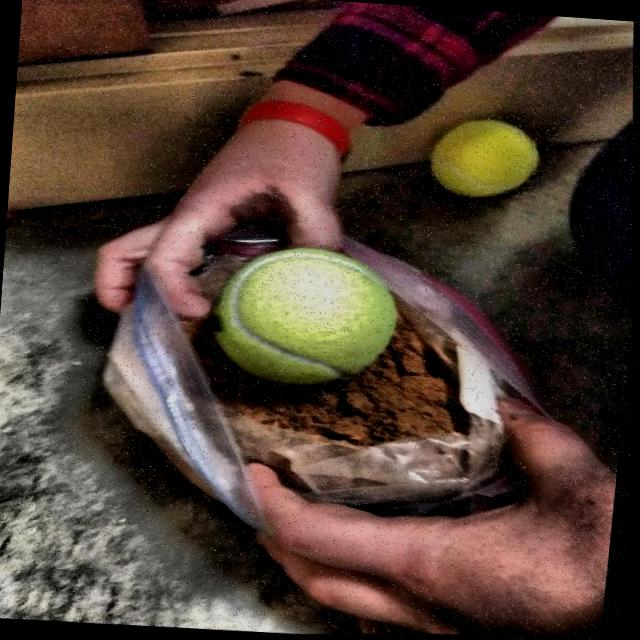Tennis Ball: (197, 227, 425, 410), (420, 106, 545, 216)
